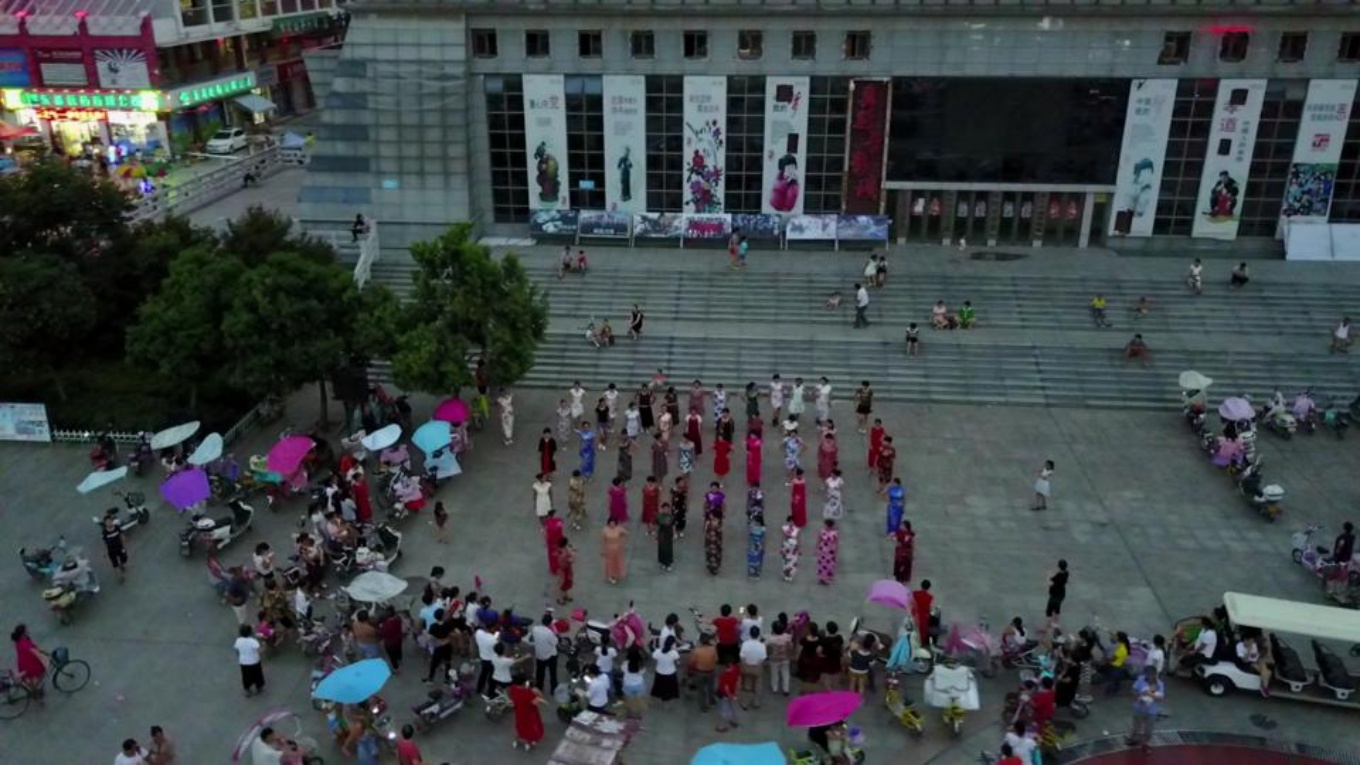bicycle: (0, 645, 90, 720)
car: (202, 126, 249, 151)
ignored regions: (22, 397, 480, 606), (12, 128, 167, 186)
motor: (410, 664, 481, 729), (1288, 525, 1345, 589), (1227, 451, 1281, 516), (880, 666, 924, 734), (790, 727, 869, 764), (934, 658, 971, 733), (1182, 393, 1220, 451), (1223, 400, 1260, 458), (1260, 392, 1295, 433), (1316, 392, 1348, 433), (1292, 387, 1318, 429)
others: (1166, 587, 1359, 710)
pedestrian: (1127, 664, 1166, 753), (506, 671, 546, 750), (9, 621, 46, 703), (531, 613, 563, 698), (715, 654, 749, 733), (421, 606, 454, 686), (472, 617, 502, 698), (621, 641, 648, 729), (689, 630, 719, 709), (737, 623, 763, 712), (591, 631, 620, 709), (233, 624, 264, 696), (814, 621, 842, 699), (651, 632, 679, 710), (846, 632, 876, 702), (795, 621, 822, 696), (247, 727, 300, 764), (767, 617, 792, 693), (1103, 625, 1128, 698), (1043, 556, 1066, 634), (598, 516, 624, 584), (887, 518, 913, 586), (909, 579, 933, 649), (1139, 631, 1165, 695), (379, 606, 404, 672), (815, 518, 839, 586), (777, 429, 805, 487), (710, 606, 737, 666), (655, 502, 678, 569), (349, 608, 378, 661), (543, 508, 566, 574), (488, 644, 516, 698), (879, 477, 903, 539), (739, 603, 766, 657), (778, 515, 800, 581), (553, 535, 573, 606), (700, 509, 722, 573), (657, 613, 682, 669), (668, 475, 689, 539), (494, 385, 516, 446), (819, 468, 842, 525), (613, 427, 637, 481), (145, 726, 179, 764), (532, 471, 553, 531), (606, 474, 627, 532), (587, 658, 608, 715), (815, 433, 838, 485), (395, 723, 424, 764), (632, 380, 654, 434), (741, 430, 763, 484), (746, 515, 764, 580), (577, 421, 596, 482), (640, 474, 659, 535), (566, 467, 584, 531), (788, 468, 808, 525), (1032, 458, 1053, 512), (567, 378, 589, 429), (875, 434, 894, 491), (702, 481, 722, 535), (853, 379, 873, 433), (773, 614, 797, 659), (1331, 518, 1353, 567), (113, 734, 148, 764), (811, 375, 831, 427), (538, 427, 557, 481), (713, 407, 734, 455), (685, 379, 707, 424), (709, 433, 730, 480), (682, 404, 702, 453), (553, 399, 572, 450), (866, 417, 883, 474), (788, 376, 807, 426), (739, 379, 760, 423), (648, 431, 666, 478), (766, 372, 781, 427), (744, 410, 764, 451), (746, 478, 761, 532), (852, 280, 869, 327), (675, 433, 693, 477), (623, 400, 640, 446), (594, 396, 608, 451), (710, 382, 727, 427), (662, 385, 679, 429), (783, 413, 800, 455), (603, 382, 617, 431), (657, 404, 672, 446), (1227, 261, 1250, 287), (726, 226, 736, 269), (737, 236, 746, 264)
people: (1175, 613, 1214, 678), (1231, 635, 1270, 698), (1023, 675, 1056, 734), (1002, 720, 1039, 763), (1050, 652, 1078, 708), (824, 716, 855, 758), (808, 715, 831, 761), (1120, 334, 1152, 366), (1003, 617, 1029, 655), (1328, 318, 1352, 355), (348, 210, 373, 243), (1071, 630, 1091, 669), (1090, 291, 1110, 329), (951, 300, 977, 329), (555, 244, 573, 283), (624, 301, 642, 339), (1183, 259, 1203, 293), (1134, 682, 1162, 706), (930, 298, 948, 329), (1100, 632, 1118, 662), (860, 253, 877, 284), (597, 318, 615, 346), (903, 322, 918, 355), (1129, 295, 1148, 320), (872, 253, 885, 287), (825, 288, 842, 310), (577, 249, 590, 276), (583, 324, 597, 345), (600, 327, 611, 346)
